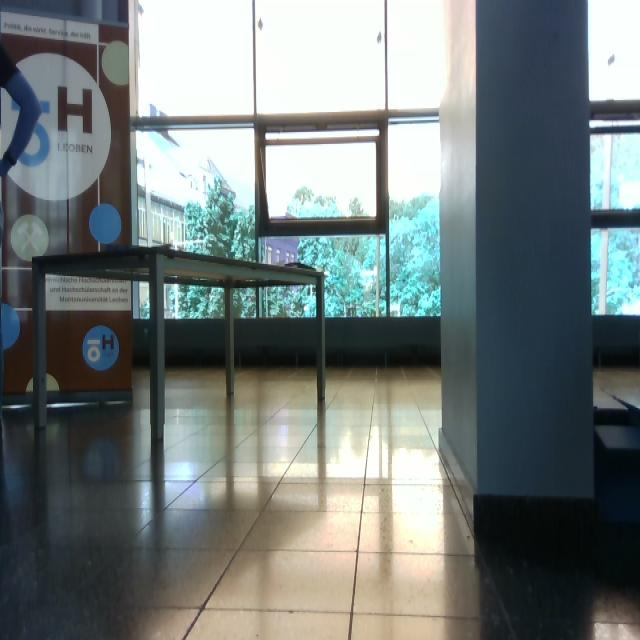door: (1, 3, 135, 419)
light bulb: (11, 215, 50, 263), (89, 202, 122, 245), (1, 302, 21, 352), (26, 373, 60, 394), (258, 17, 264, 32)
person: (1, 40, 42, 432)
pillar: (438, 1, 596, 522)
table: (29, 242, 330, 445)
window: (131, 1, 446, 322)
